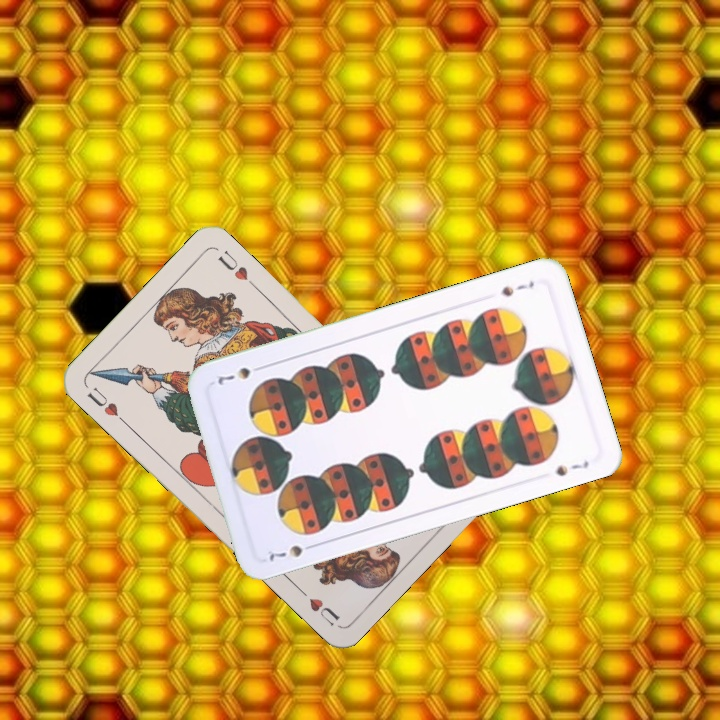HU: (82, 382, 129, 427)
S7: (265, 539, 320, 564), (497, 276, 537, 299)
